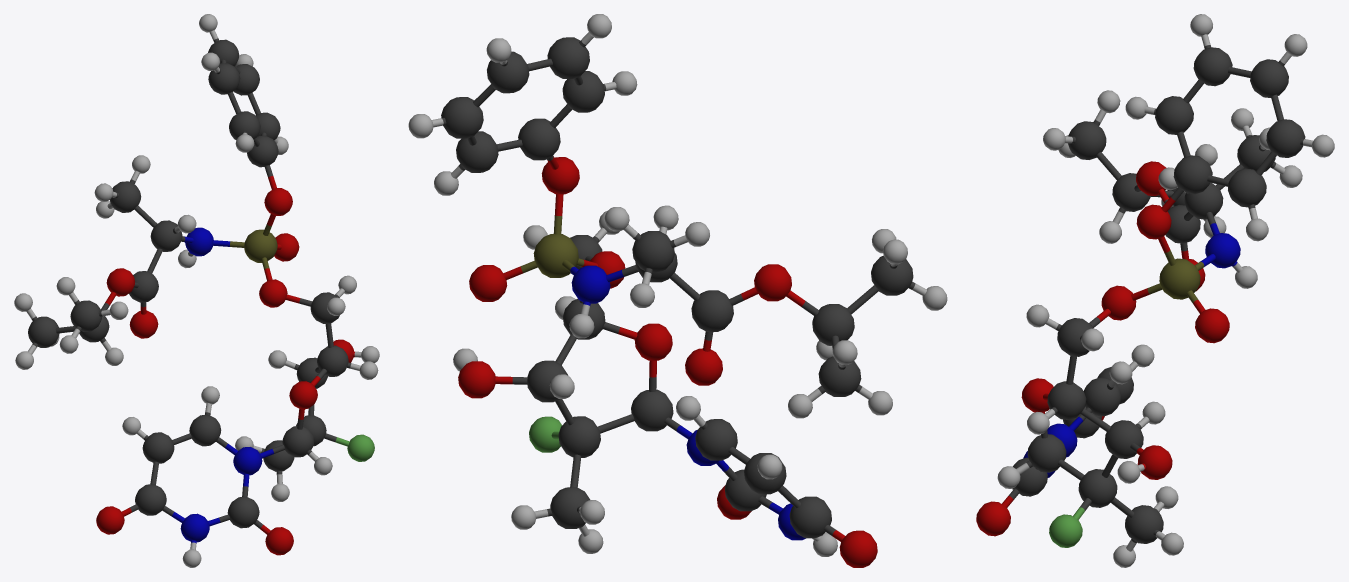
Rendered from form1.obj.
3 renders of one model, left to right at view 1: azimuth 30°, elevation 25°; view 2: azimuth 150°, elevation 25°; view 3: azimuth 270°, elevation 25°, orthographic. The views are drawn at different scales.
Visible parts, largest first — view 1: vmd_mol0_rep0; view 2: vmd_mol0_rep0; view 3: vmd_mol0_rep0.
Part boxes in pixels (x1=…): vmd_mol0_rep0: x1=14, y1=14, x2=379, y2=567; vmd_mol0_rep0: x1=408, y1=14, x2=947, y2=567; vmd_mol0_rep0: x1=976, y1=14, x2=1334, y2=567.
Bounding box in the file's own units: 1.32 × 1.61 × 0.981.
